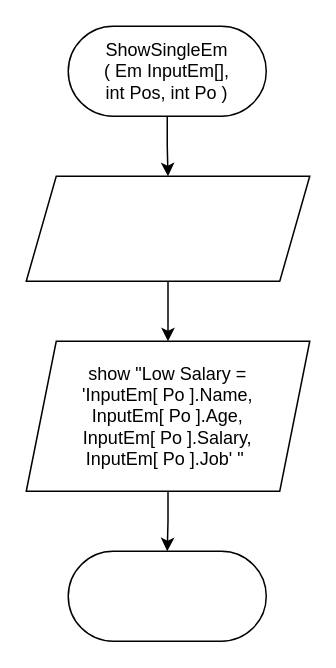
The diagram is 336 pixels wide and 668 high, and some of its shapes have lost their labels. The box of each missing label's shape, as (x1, y1, x2, y2) in pixels:
show "Oldest = 'InputEm[ Pos ].Name, InputEm[ Pos ].Age, InputEm[ Pos ].Job' ": (25, 175, 310, 281)
Stop: (67, 550, 266, 641)
